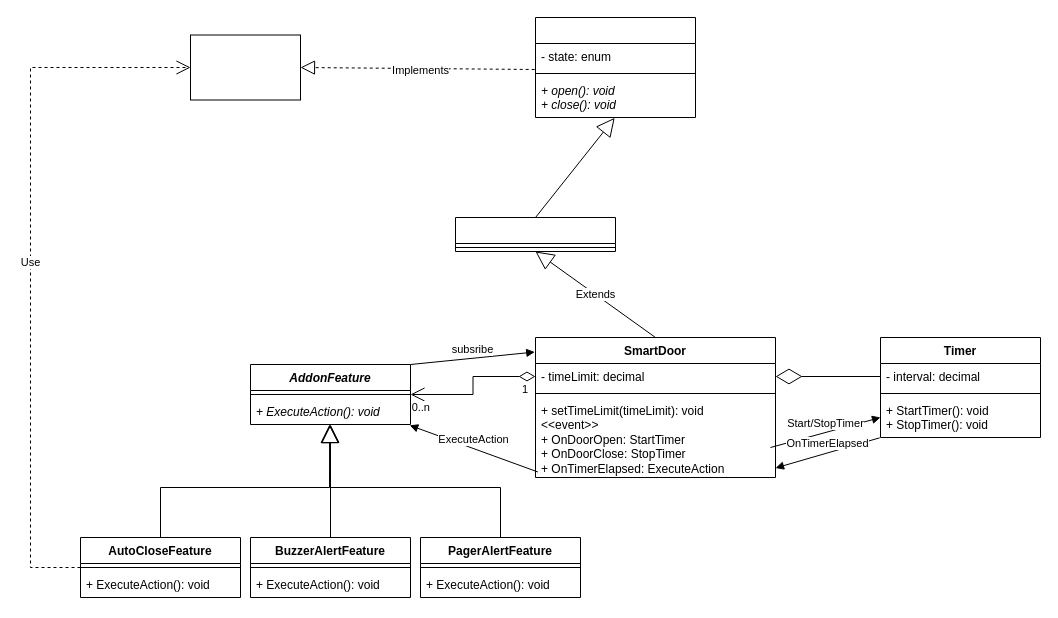
Some shapes in this 1058 by 618 pixel diagram are drawn without their labels. Each missing label, with the box of its shape:
Door: (534, 16, 696, 118)
SimpleDoor: (454, 216, 616, 252)
«interface» IDoorOperator + open(): void + close(): void: (190, 34, 300, 100)
